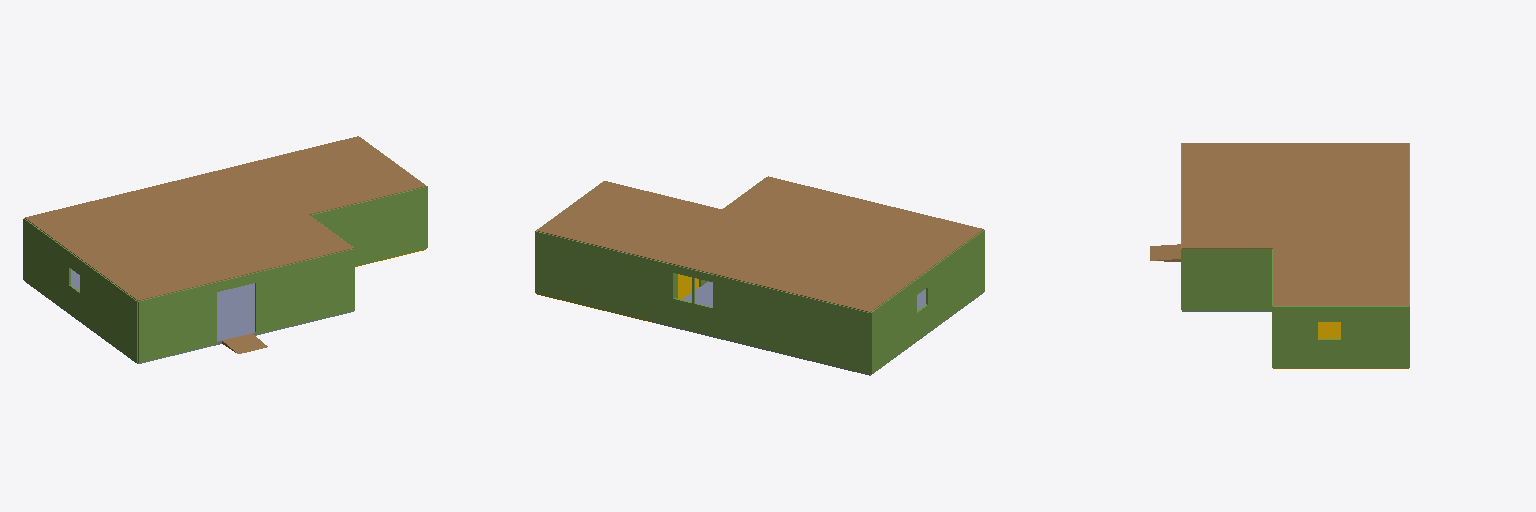
Rendered from house.obj.
The picture shows the model from 3 angles: view 1: azimuth 30°, elevation 25°; view 2: azimuth 150°, elevation 25°; view 3: azimuth 270°, elevation 25°; orthographic projection.
Visible parts, largest first — view 1: house.obj; view 2: house.obj; view 3: house.obj.
Part boxes in pixels (x1,y1,x2,y2): house.obj: (23, 136, 427, 363); house.obj: (535, 176, 984, 375); house.obj: (1150, 143, 1409, 368).
Size of the model in its own units: 16.58 by 3.01 by 11.13.